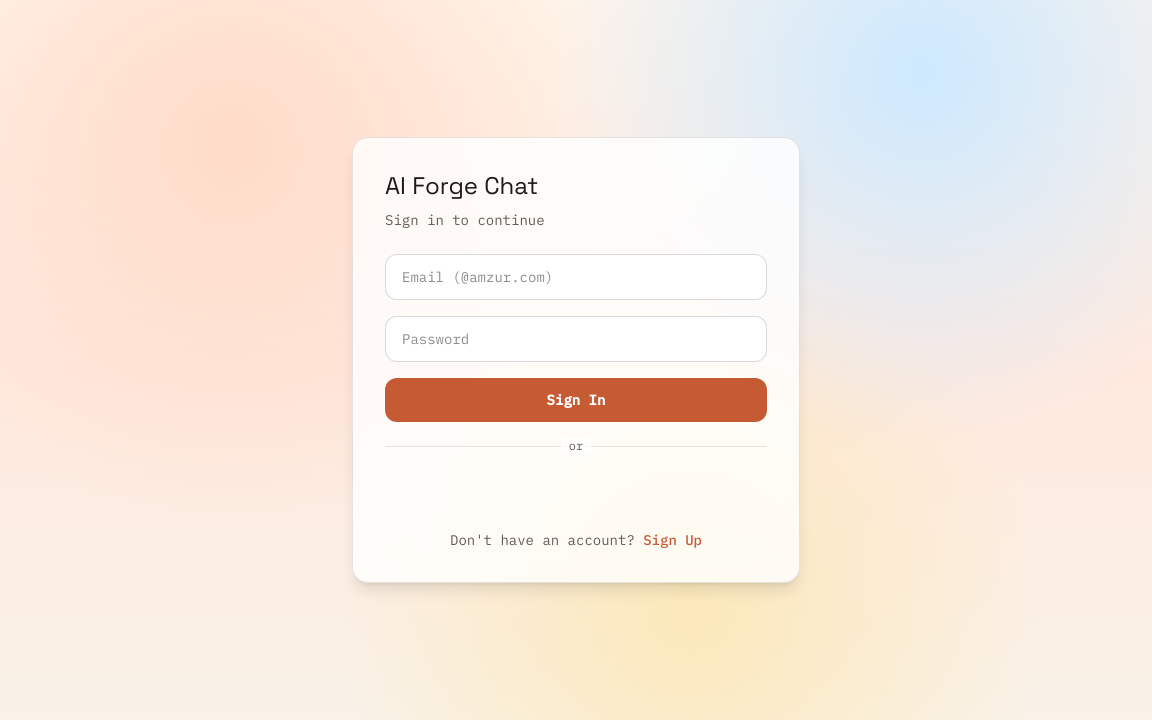
Test: LoginPage › shows error on failed login
This screenshot has width=1152, height=720.
Type "bad@amzur.com" into the field with placeholder "Email (@amzur.com)".
click(576, 277); type("bad@amzur.com")  # box x1=385 y1=254 x2=767 y2=300
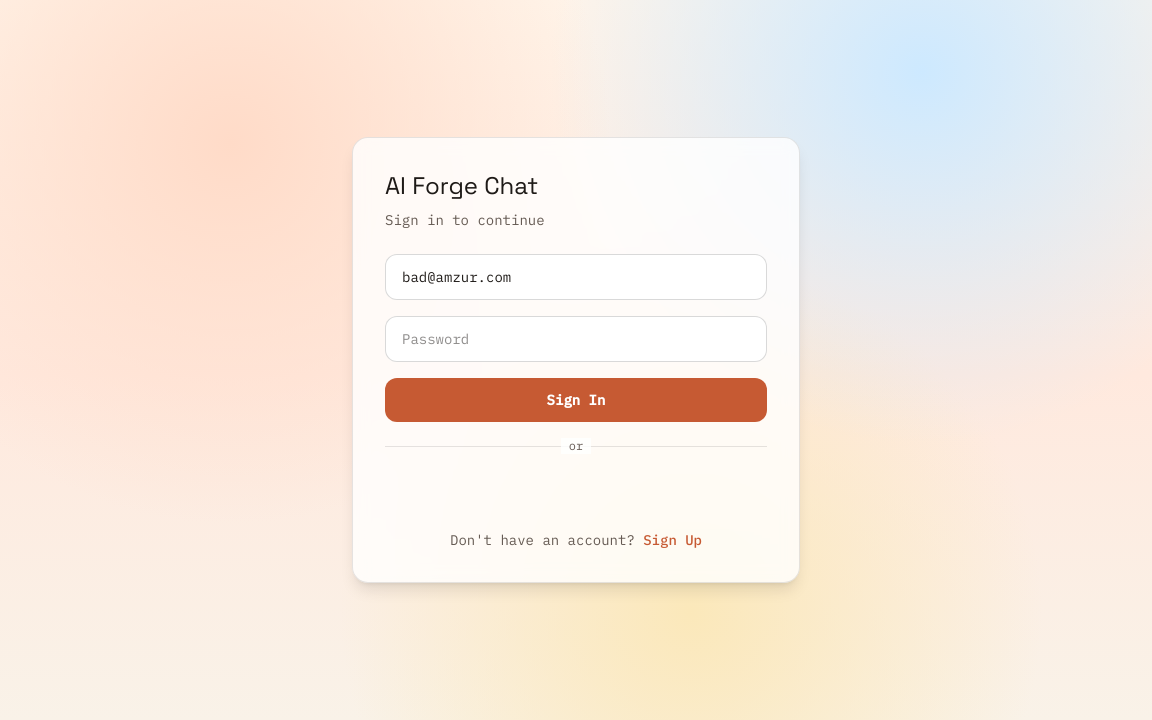
Type "WrongPass1!" into the password field with placeholder "Password".
click(576, 339); type("WrongPass1!")  # box x1=385 y1=316 x2=767 y2=362
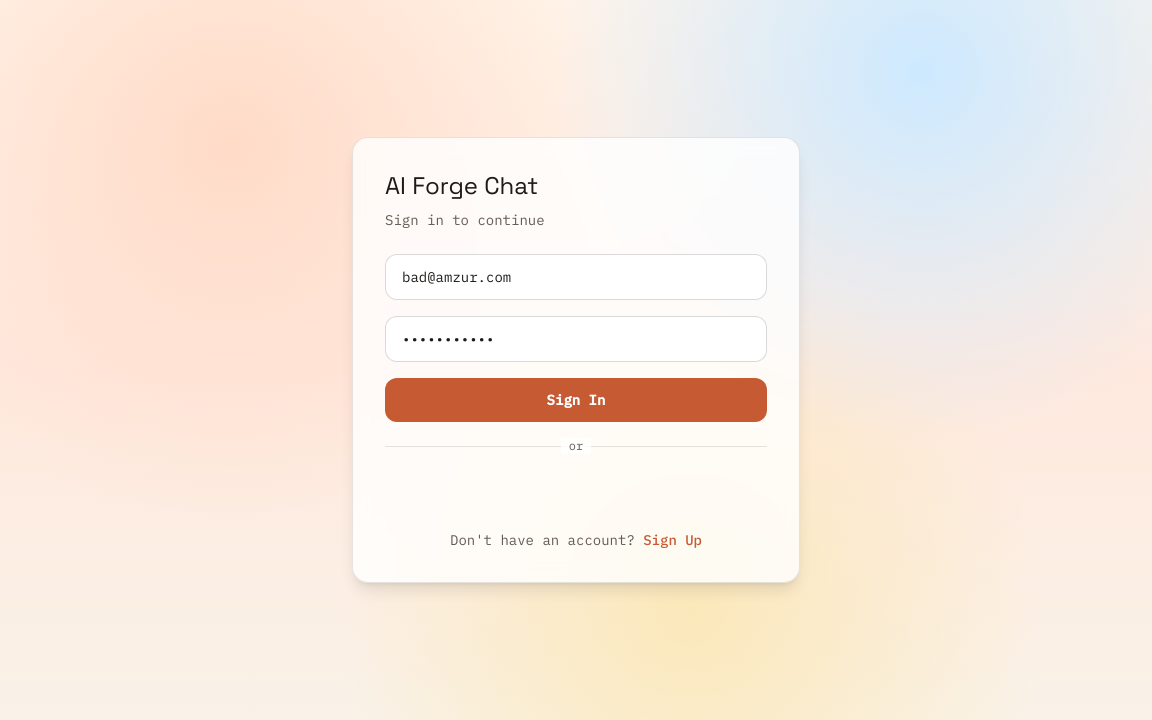
Click the button "Sign In".
click(576, 400)  # box x1=385 y1=378 x2=767 y2=422
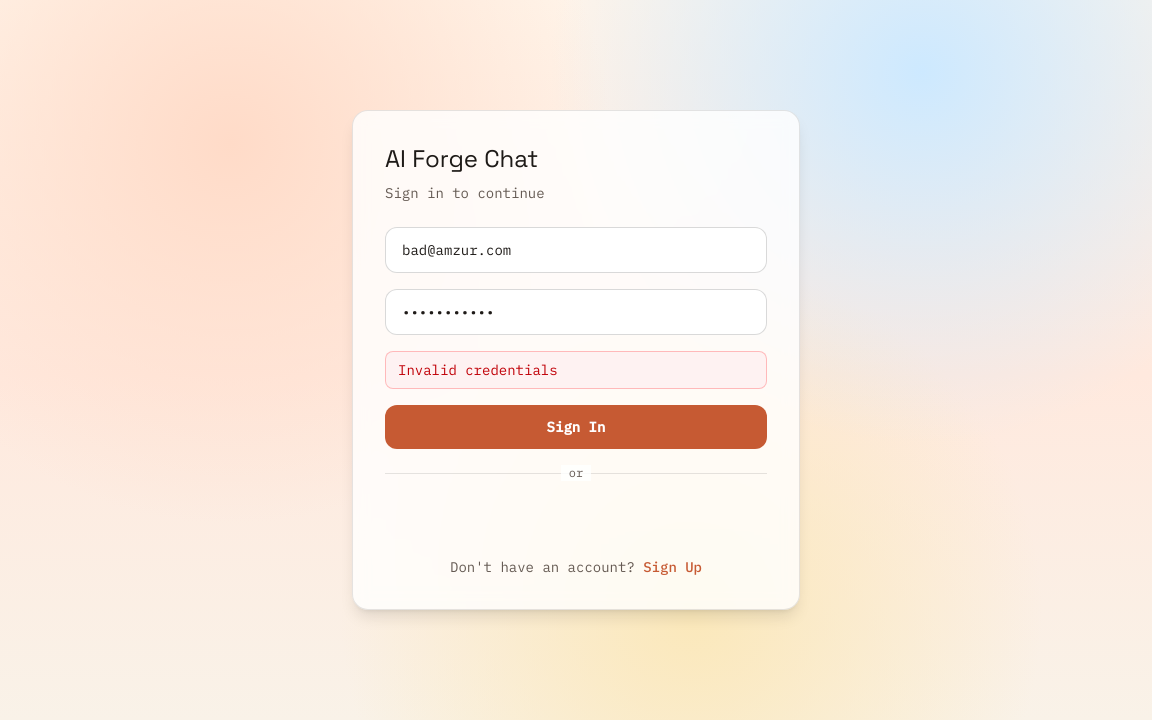
Result: the text "Invalid credentials" is shown at x1=385 y1=351 x2=767 y2=389
